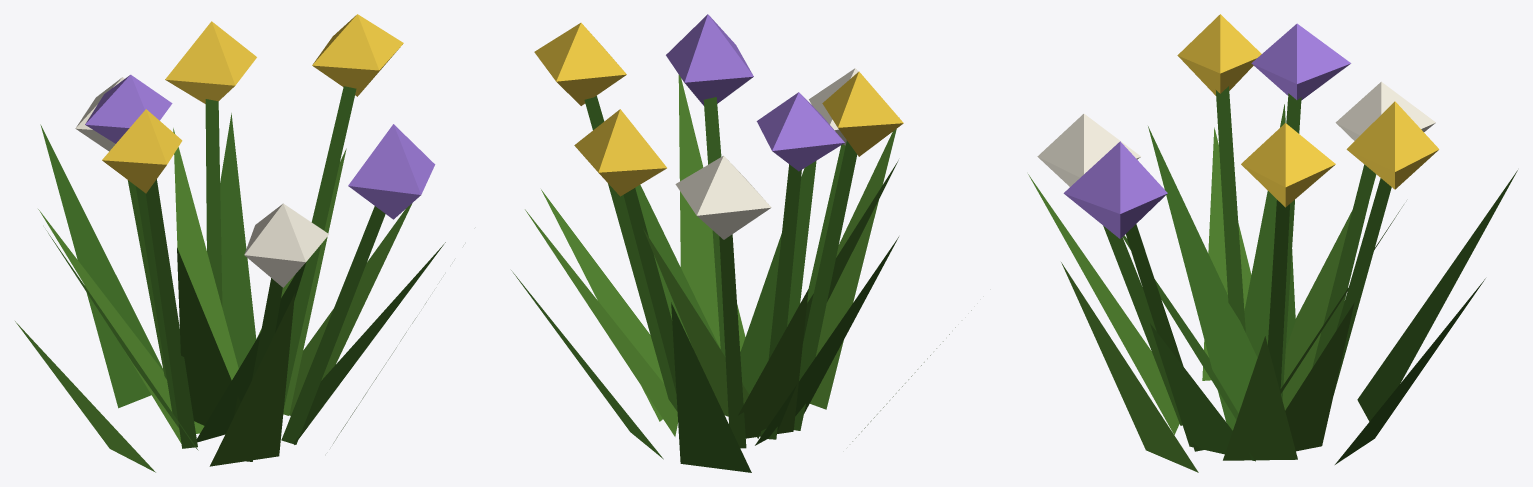
Rendered from wild_flowers.glb.
3 renders of one model, left to right at view 1: azimuth 30°, elevation 25°; view 2: azimuth 150°, elevation 25°; view 3: azimuth 270°, elevation 25°, orthographic. The views are drawn at different scales.
Parts seen in each view (by area): view 1: wild_flowers2; view 2: wild_flowers2; view 3: wild_flowers2.
Part boxes in pixels (x1,y1,x2,y2): wild_flowers2: (15,14,445,472); wild_flowers2: (511,14,971,472); wild_flowers2: (1028,14,1517,472).
Bounding box in the file's own units: 0.8045 × 0.6695 × 0.7823.
